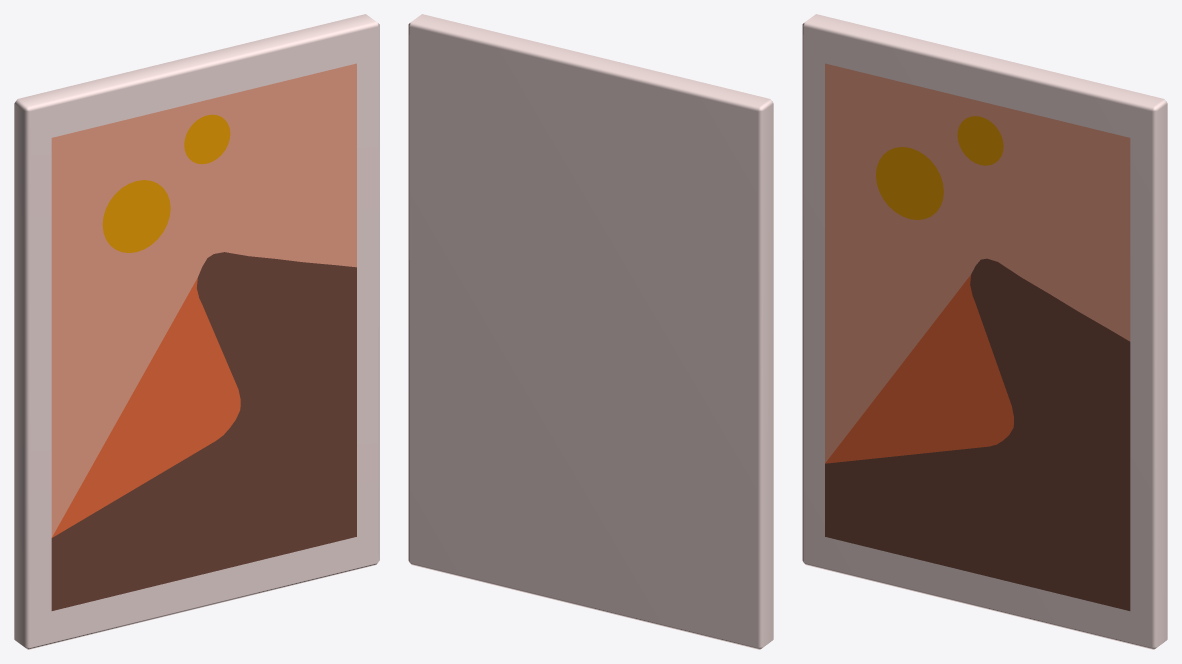
The model's file is Public_4_Cinema_Poster_3.glb.
3 renders of one model, left to right at view 1: azimuth 30°, elevation 25°; view 2: azimuth 150°, elevation 25°; view 3: azimuth 330°, elevation 25°, orthographic.
Parts seen in each view (by area): view 1: Public_4_Cinema_Poster_3; view 2: Public_4_Cinema_Poster_3; view 3: Public_4_Cinema_Poster_3.
Boxes of the visible parts, x1,y1,x2,y2 form: Public_4_Cinema_Poster_3: (14, 14, 379, 649); Public_4_Cinema_Poster_3: (408, 14, 773, 649); Public_4_Cinema_Poster_3: (802, 14, 1167, 649).
Bounding box in the file's own units: 1.13 × 1.65 × 0.0803.
1 material, 1 textured.
